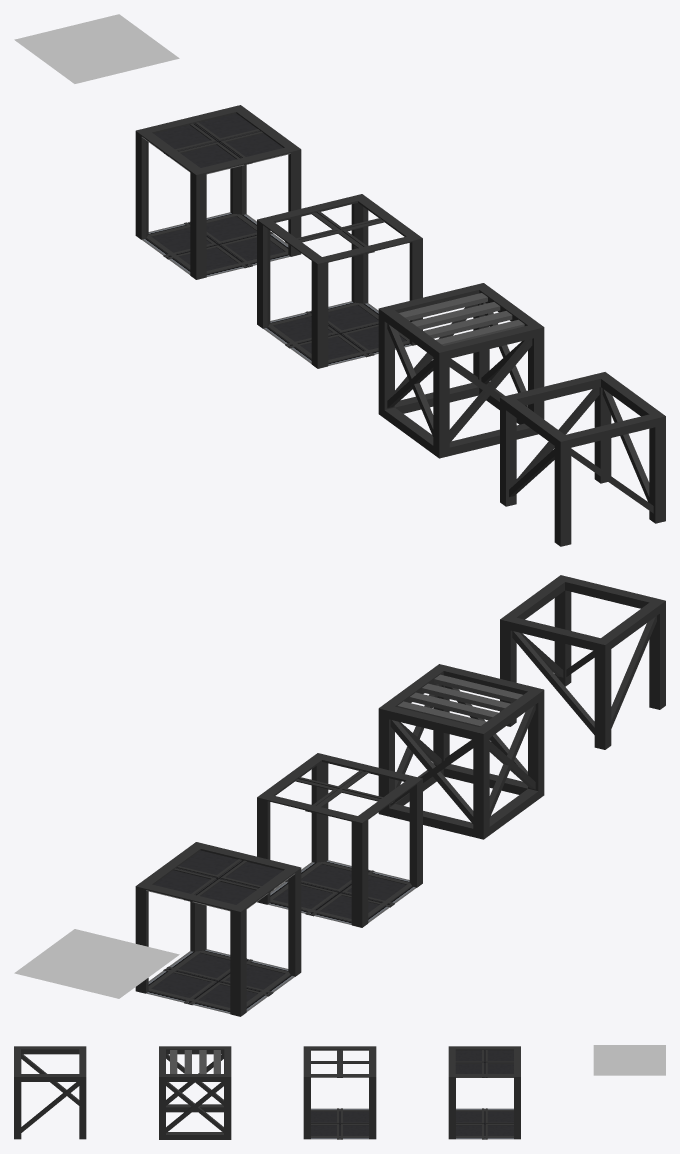
File: floors.fbx
3 renders of one model, top to bottom at view 1: azimuth 30°, elevation 25°; view 2: azimuth 150°, elevation 25°; view 3: azimuth 270°, elevation 25°, orthographic. The views are drawn at different scales.
Visible parts, largest first — view 1: Catwalk, Plenum Closed, Plenum Open, Lattice, Flooring; view 2: Catwalk, Plenum Closed, Plenum Open, Lattice, Flooring; view 3: Plenum Closed, Catwalk, Plenum Open, Lattice, Flooring.
Part boxes in pixels (bbox=[...]): Catwalk: bbox=[378, 283, 544, 458]; Plenum Closed: bbox=[135, 105, 301, 279]; Plenum Open: bbox=[257, 194, 422, 368]; Lattice: bbox=[500, 372, 665, 546]; Flooring: bbox=[14, 14, 179, 83]; Catwalk: bbox=[378, 664, 544, 839]; Plenum Closed: bbox=[135, 842, 301, 1016]; Plenum Open: bbox=[257, 753, 422, 927]; Lattice: bbox=[500, 575, 665, 749]; Flooring: bbox=[14, 929, 179, 998]; Plenum Closed: bbox=[448, 1046, 520, 1139]; Catwalk: bbox=[159, 1046, 231, 1139]; Plenum Open: bbox=[303, 1046, 376, 1139]; Lattice: bbox=[14, 1046, 86, 1139]; Flooring: bbox=[593, 1045, 665, 1075].
Bounding box in the file's own units: 1 × 0.9765 × 9.
